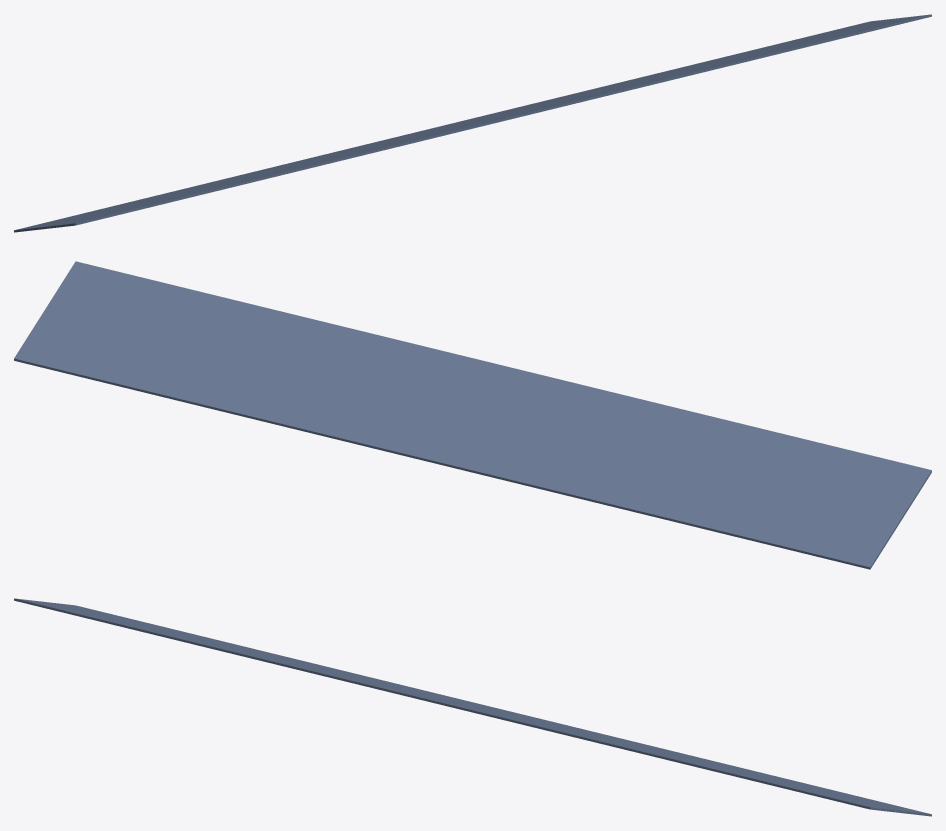
Rendered from solar-row-far.glb.
3 views of the same model, one above another, from view 1: azimuth 30°, elevation 25°; view 2: azimuth 150°, elevation 25°; view 3: azimuth 330°, elevation 25° (orthographic).
Visible parts, largest first — view 1: solar-row-far; view 2: solar-row-far; view 3: solar-row-far.
Part boxes in pixels (x1,y1,x2,y2): solar-row-far: (14,14,931,232); solar-row-far: (14,261,931,569); solar-row-far: (14,598,931,816).
Size of the model in its own units: 11.31 by 0.6862 by 1.41.
